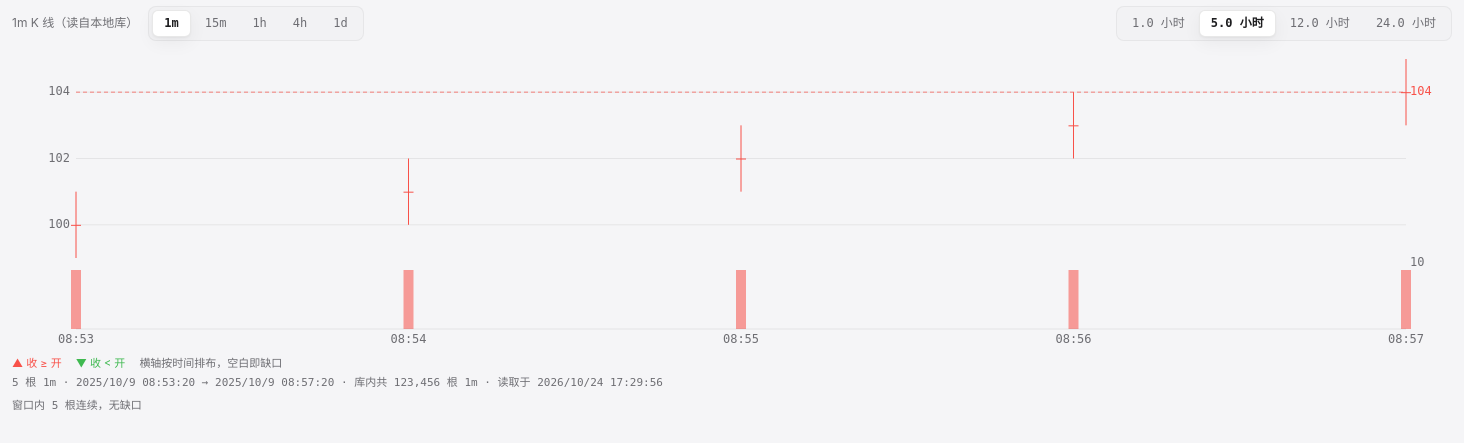
PriceChart 取数 › 读取失败必须**常驻可见**，并说明下面的是旧数据
Click the button titled "最近 60 根" at {"x": 1158, "y": 23}, box [1120, 10, 1197, 37]
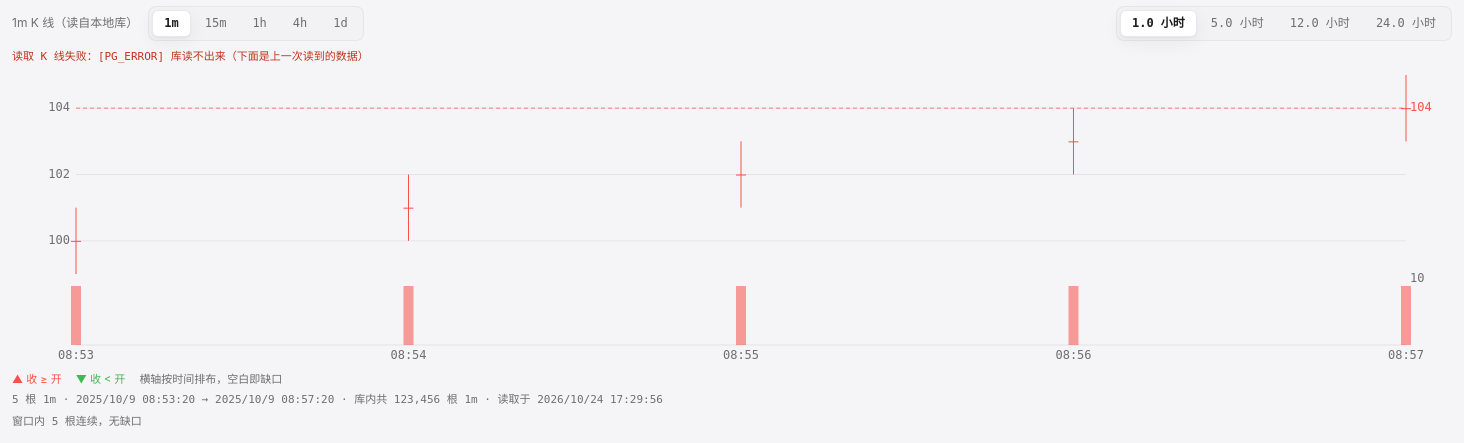
Check: the text "读取 K 线失败：[PG_ERROR] 库读不出来（下面是上一次读到的数据）" is shown, box [12, 50, 369, 63]
